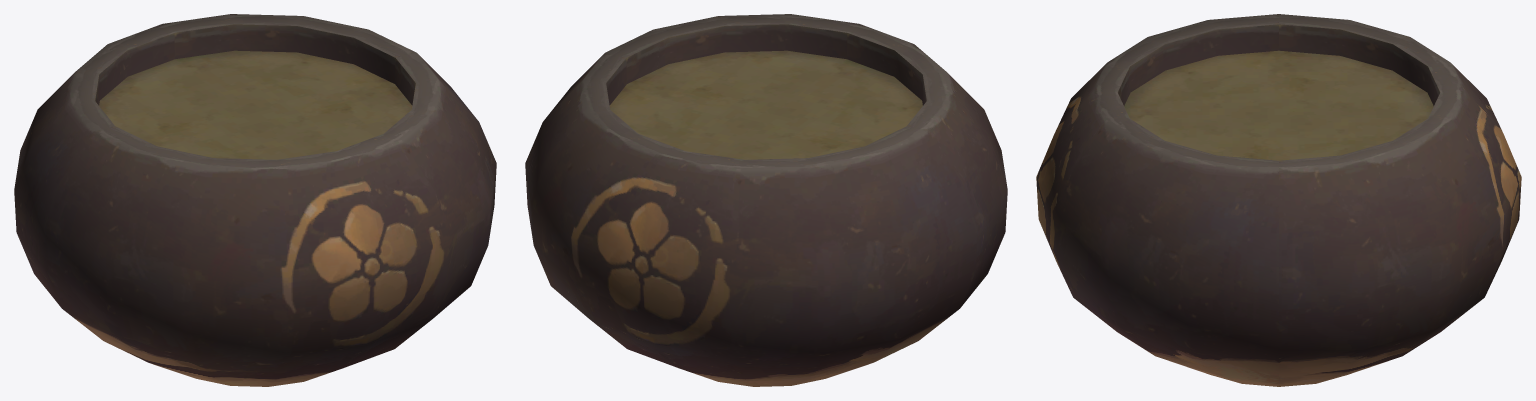
The model's file is Homeworld_General_Common_Thing_Prop_Irodori_Miniascape_01_Vo.fbx.
3 renders of one model, left to right at view 1: azimuth 30°, elevation 25°; view 2: azimuth 150°, elevation 25°; view 3: azimuth 270°, elevation 25°, orthographic.
Parts seen in each view (by area): view 1: Homeworld_General_Common_Thing_Prop_Irodori_Miniascape_01_Vo; view 2: Homeworld_General_Common_Thing_Prop_Irodori_Miniascape_01_Vo; view 3: Homeworld_General_Common_Thing_Prop_Irodori_Miniascape_01_Vo.
Boxes of the visible parts, bbox=[...] form: Homeworld_General_Common_Thing_Prop_Irodori_Miniascape_01_Vo: bbox=[14, 14, 496, 386]; Homeworld_General_Common_Thing_Prop_Irodori_Miniascape_01_Vo: bbox=[525, 14, 1007, 386]; Homeworld_General_Common_Thing_Prop_Irodori_Miniascape_01_Vo: bbox=[1036, 14, 1521, 386].
Bounding box in the file's own units: 1.05 × 0.6074 × 1.05.
